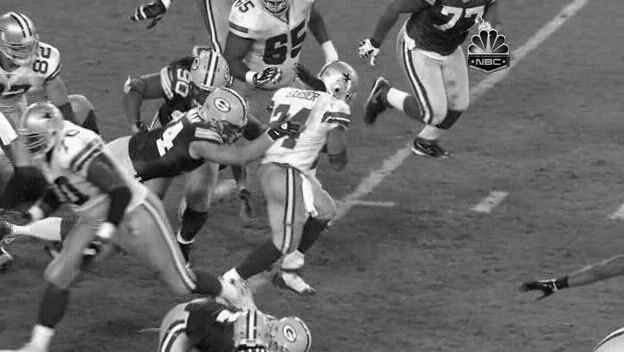person: (322, 61, 357, 106), (321, 61, 356, 106), (323, 61, 358, 106), (322, 60, 357, 105), (322, 62, 357, 107)
target_negative: (8, 209, 292, 305), (452, 96, 526, 297), (396, 94, 540, 179), (397, 63, 428, 82), (601, 30, 624, 46), (596, 328, 602, 340)
